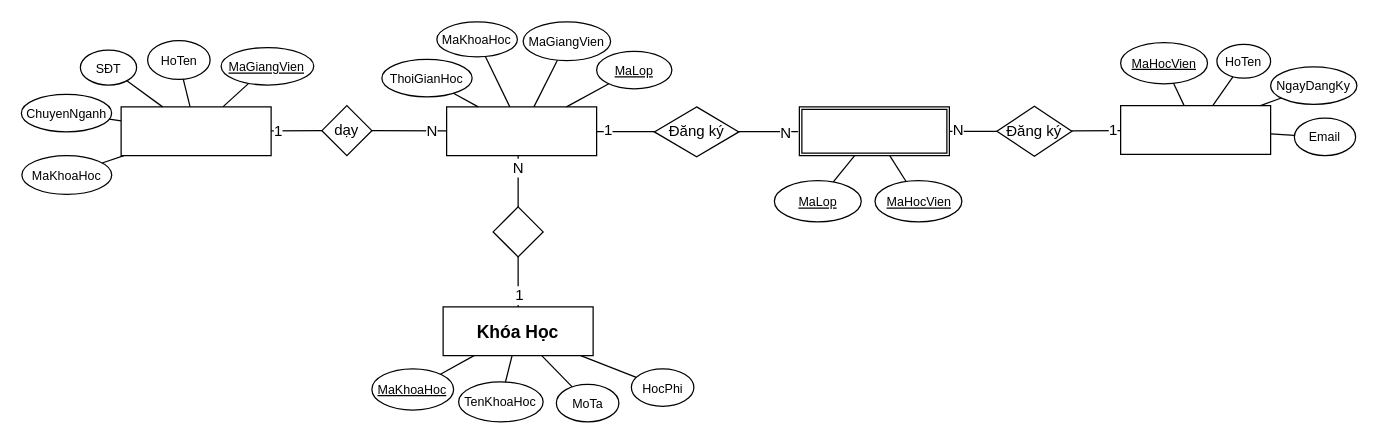
Image size: 1380x444. Some labels were removed from this diagram. Here are the shapes that lost their labels. From the top down, the centre of each, then its label:
(195,131): Giảng Viên
(521,131): Lớp Học
(873,131): Danh Sách Đăng Ký
(1195,129): Học viên
(517,231): Thuộc
